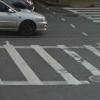Crosswalk: (2, 37, 100, 92)
